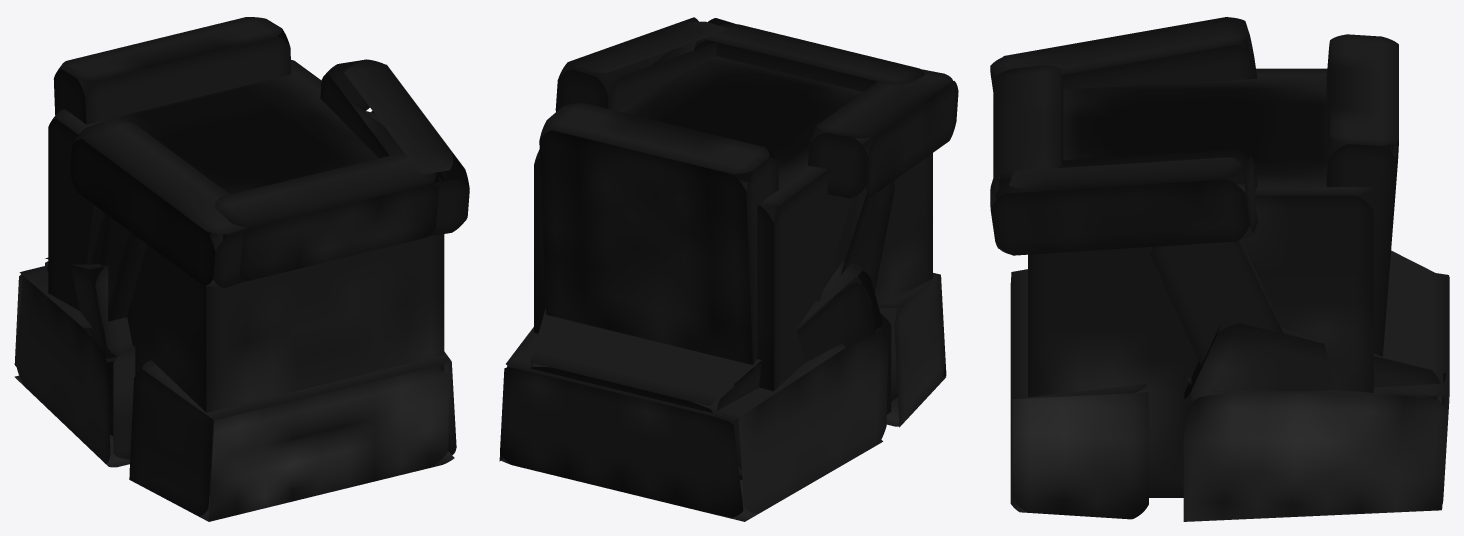
Rendered from ghost_b_r.obj.
The picture shows the model from 3 angles, left to right: view 1: azimuth 30°, elevation 25°; view 2: azimuth 150°, elevation 25°; view 3: azimuth 270°, elevation 25°; orthographic projection. The views are drawn at different scales.
Parts seen in each view (by area): view 1: cube; view 2: cube; view 3: cube.
Boxes of the visible parts, bbox=[...] form: cube: bbox=[14, 17, 469, 521]; cube: bbox=[499, 17, 958, 521]; cube: bbox=[990, 17, 1449, 521].
Bounding box in the file's own units: 0.3519 × 0.3565 × 0.4171.
